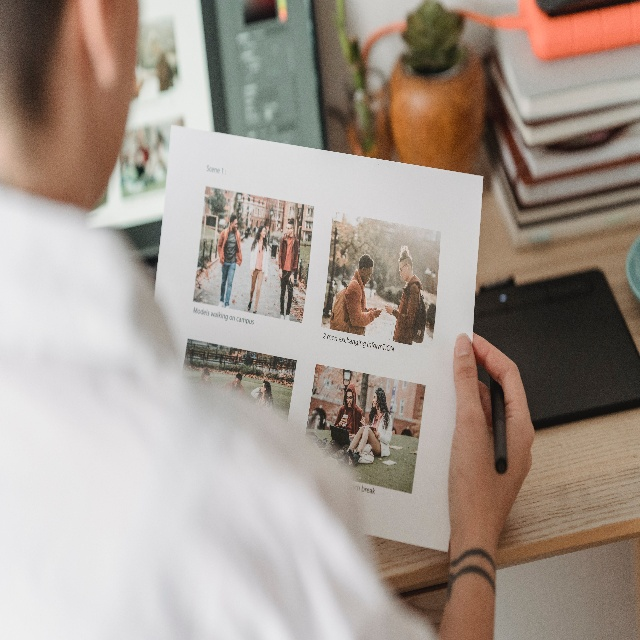Sin_guantes: (449, 325, 534, 553)
